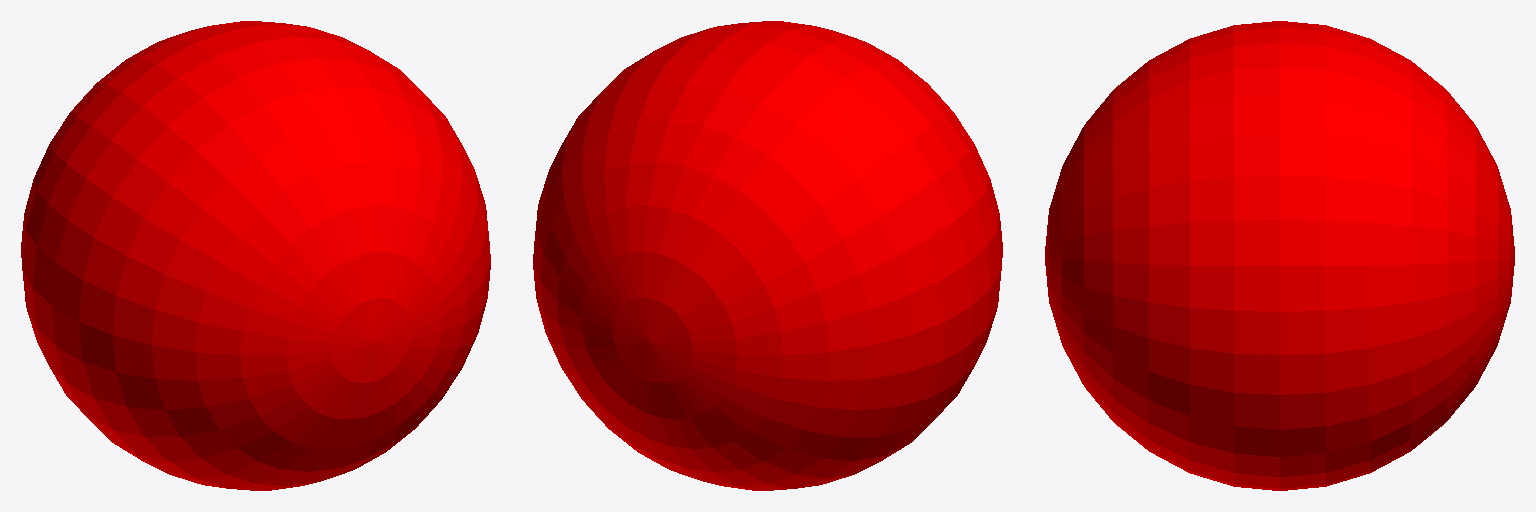
robot.urdf — panda:
<?xml version="1.0" ?>
<robot name="panda" xmlns:xacro="http://www.ros.org/wiki/xacro">

  <mujoco>
    <compiler meshdir="../meshes" discardvisual="false" />
  </mujoco>
  
  <link name="panda_link0">
    <visual>
      <geometry>
        <mesh filename="[local-path]/DexMimic/dex-mimic/assets/franka_pinocchio/meshes/visual/link0.dae"/>
      </geometry>
    </visual>
    <collision>
      <geometry>
        <mesh filename="[local-path]/DexMimic/dex-mimic/assets/franka_pinocchio/meshes/collision/link0.obj"/>
      </geometry>
    </collision>
  </link>
  <link name="panda_link1">
    <visual>
      <geometry>
        <mesh filename="[local-path]/DexMimic/dex-mimic/assets/franka_pinocchio/meshes/visual/link1.dae"/>
      </geometry>
    </visual>
    <collision>
      <geometry>
        <mesh filename="[local-path]/DexMimic/dex-mimic/assets/franka_pinocchio/meshes/collision/link1.obj"/>
      </geometry>
    </collision>
  </link>
  <joint name="panda_joint1" type="revolute">
    <safety_controller k_position="100.0" k_velocity="40.0" soft_lower_limit="-2.8973" soft_upper_limit="2.8973"/>
    <origin rpy="0 0 0" xyz="0 0 0.333"/>
    <parent link="panda_link0"/>
    <child link="panda_link1"/>
    <axis xyz="0 0 1"/>
    <dynamics damping="10.0"/>
    <limit effort="87" lower="-2.8973" upper="2.8973" velocity="2.1750"/>
  </joint>
  <link name="panda_link2">
    <visual>
      <geometry>
        <mesh filename="[local-path]/DexMimic/dex-mimic/assets/franka_pinocchio/meshes/visual/link2.dae"/>
      </geometry>
    </visual>
    <collision>
      <geometry>
        <mesh filename="[local-path]/DexMimic/dex-mimic/assets/franka_pinocchio/meshes/collision/link2.obj"/>
      </geometry>
    </collision>
  </link>
  <joint name="panda_joint2" type="revolute">
    <safety_controller k_position="100.0" k_velocity="40.0" soft_lower_limit="-1.7628" soft_upper_limit="1.7628"/>
    <origin rpy="-1.57079632679 0 0" xyz="0 0 0"/>
    <parent link="panda_link1"/>
    <child link="panda_link2"/>
    <axis xyz="0 0 1"/>
    <dynamics damping="10.0"/>
    <limit effort="87" lower="-1.7628" upper="1.7628" velocity="2.1750"/>
  </joint>
  <link name="panda_link3">
    <visual>
      <geometry>
        <mesh filename="[local-path]/DexMimic/dex-mimic/assets/franka_pinocchio/meshes/visual/link3.dae"/>
      </geometry>
    </visual>
    <collision>
      <geometry>
        <mesh filename="[local-path]/DexMimic/dex-mimic/assets/franka_pinocchio/meshes/collision/link3.obj"/>
      </geometry>
    </collision>
  </link>
  <joint name="panda_joint3" type="revolute">
    <safety_controller k_position="100.0" k_velocity="40.0" soft_lower_limit="-2.8973" soft_upper_limit="2.8973"/>
    <origin rpy="1.57079632679 0 0" xyz="0 -0.316 0"/>
    <parent link="panda_link2"/>
    <child link="panda_link3"/>
    <axis xyz="0 0 1"/>
    <dynamics damping="10.0"/>
    <limit effort="87" lower="-2.8973" upper="2.8973" velocity="2.1750"/>
  </joint>
  <link name="panda_link4">
    <visual>
      <geometry>
        <mesh filename="[local-path]/DexMimic/dex-mimic/assets/franka_pinocchio/meshes/visual/link4.dae"/>
      </geometry>
    </visual>
    <collision>
      <geometry>
        <mesh filename="[local-path]/DexMimic/dex-mimic/assets/franka_pinocchio/meshes/collision/link4.obj"/>
      </geometry>
    </collision>
  </link>
  <joint name="panda_joint4" type="revolute">
    <safety_controller k_position="100.0" k_velocity="40.0" soft_lower_limit="-3.0718" soft_upper_limit="-0.0698"/>
    <origin rpy="1.57079632679 0 0" xyz="0.0825 0 0"/>
    <parent link="panda_link3"/>
    <child link="panda_link4"/>
    <axis xyz="0 0 1"/>    
    <dynamics damping="10.0"/>
    <limit effort="87" lower="-3.0718" upper="-0.0698" velocity="2.1750"/>
    <!-- something is weird with this joint limit config
    <dynamics damping="10.0"/>
    <limit effort="87" lower="-3.0" upper="0.087" velocity="2.1750"/>  -->
  </joint>
  <link name="panda_link5">
    <visual>
      <geometry>
        <mesh filename="[local-path]/DexMimic/dex-mimic/assets/franka_pinocchio/meshes/visual/link5.dae"/>
      </geometry>
    </visual>
    <collision>
      <geometry>
        <mesh filename="[local-path]/DexMimic/dex-mimic/assets/franka_pinocchio/meshes/collision/link5.obj"/>
      </geometry>
    </collision>
  </link>
  <joint name="panda_joint5" type="revolute">
    <safety_controller k_position="100.0" k_velocity="40.0" soft_lower_limit="-2.8973" soft_upper_limit="2.8973"/>
    <origin rpy="-1.57079632679 0 0" xyz="-0.0825 0.384 0"/>
    <parent link="panda_link4"/>
    <child link="panda_link5"/>
    <axis xyz="0 0 1"/>
    <dynamics damping="10.0"/>
    <limit effort="87" lower="-2.8973" upper="2.8973" velocity="2.1750"/>
  </joint>
  <link name="panda_link6">
    <visual>
      <geometry>
        <mesh filename="[local-path]/DexMimic/dex-mimic/assets/franka_pinocchio/meshes/visual/link6.dae"/>
      </geometry>
    </visual>
    <collision>
      <geometry>
        <mesh filename="[local-path]/DexMimic/dex-mimic/assets/franka_pinocchio/meshes/collision/link6.obj"/>
      </geometry>
    </collision>
  </link>
  <joint name="panda_joint6" type="revolute">
    <safety_controller k_position="100.0" k_velocity="40.0" soft_lower_limit="-0.0175" soft_upper_limit="3.7525"/>
    <origin rpy="1.57079632679 0 0" xyz="0 0 0"/>
    <parent link="panda_link5"/>
    <child link="panda_link6"/>
    <axis xyz="0 0 1"/>
    <dynamics damping="10.0"/>
    <limit effort="87" lower="-0.0175" upper="3.7525" velocity="2.1750"/>
    <!-- <dynamics damping="10.0"/>
    <limit effort="12" lower="-0.0873" upper="3.0" velocity="2.6100"/> -->
  </joint>
  <link name="panda_link7">
    <visual>
      <geometry>
        <mesh filename="[local-path]/DexMimic/dex-mimic/assets/franka_pinocchio/meshes/visual/link7.dae"/>
      </geometry>
    </visual>
    <collision>
      <geometry>
        <mesh filename="[local-path]/DexMimic/dex-mimic/assets/franka_pinocchio/meshes/collision/link7.obj"/>
      </geometry>
    </collision>
  </link>
  <joint name="panda_joint7" type="revolute">
    <safety_controller k_position="100.0" k_velocity="40.0" soft_lower_limit="-2.8973" soft_upper_limit="2.8973"/>
    <origin rpy="1.57079632679 0 0" xyz="0.088 0 0"/>
    <parent link="panda_link6"/>
    <child link="panda_link7"/>
    <axis xyz="0 0 1"/>
    <dynamics damping="10.0"/>
    <limit effort="87" lower="-2.8973" upper="2.8973" velocity="2.1750"/>
  </joint>
  
  <link name="wrist_connnect">
    <visual>
      <geometry>
        <mesh filename="[local-path]/DexMimic/dex-mimic/assets/franka_pinocchio/meshes/visual/wrist_connect5.STL"/>
      </geometry>
    </visual>
    <collision>
      <geometry>
        <mesh filename="[local-path]/DexMimic/dex-mimic/assets/franka_pinocchio/meshes/visual/wrist_connect5.STL"/>
      </geometry>
    </collision>
  </link>

  <link name="panda_link8">
    <inertial>
      <origin rpy="0 0 0" xyz="0 0 0"/>
      <mass value="0.0"/>
      <inertia ixx="0.001" ixy="0.0" ixz="0.0" iyy="0.001" iyz="0.0" izz="0.001"/>
    </inertial>
  </link>
  <joint name="panda_joint8" type="fixed">
    <origin rpy="0 0 0" xyz="0 0 0.107"/>
    <parent link="panda_link7"/>
    <child link="panda_link8"/>
    <axis xyz="0 0 0"/>
  </joint>

  <joint name="arm_wrist_joint" type="fixed">
    <!--
    <parent link="panda_link8"/>
    -->
    <parent link="panda_link7"/>
    <child link="wrist_connnect"/>
    <!-- <origin rpy="-1.5707963 0 -0.785398163397" xyz="0 0 0.107"/> -->
    <origin rpy="-1.5707963 0 -1.5707963267948966" xyz="0 0 0.116"/>
  </joint>

    <joint name="wrist_hand_joint" type="fixed">
    <!--
    <parent link="panda_link8"/>
    -->
    <parent link="wrist_connnect"/>
    <child link="hand_base_link"/>
    <!-- <origin rpy="-1.5707963 0 1.5707963267948966" xyz="0 -0.02696 0.0447"/> -->
    <origin rpy="-1.5707963 0 1.5707963267948966" xyz="0 -0.01 0.03"/>
    <!--
    <origin rpy="0 0 -0.785398163397" xyz="0 0 0"/>
    -->
  </joint>

  <link name="hand_base_link">

  <!-- <visual>
    <geometry>
      <box size="0.05 0.2 0.05"/> 
    </geometry>
    <origin xyz="0 -0.2 0" rpy="0 0 0"/> 
    <material name="gray">
      <color rgba="0.6 0.6 0.6 1"/>
    </material>
  </visual> -->

  <visual>
    <geometry>
      <sphere radius="0.01"/> <!-- 球体半径为0.025 -->
    </geometry>
    <origin xyz="0 0 0" rpy="0 0 0"/> <!-- 球体放在长方体末端（沿x轴） -->
    <material name="red">
      <color rgba="1 0 0 1"/>
    </material>
  </visual>
</link>

</robot>

--- Facts derived from the render (not from the file) ---
3 views of the same robot in one strip: view 1: azimuth 30°, elevation 25°; view 2: azimuth 150°, elevation 25°; view 3: azimuth 270°, elevation 25° (orthographic).
Model panda with 11 links and 10 joints (7 revolute, 3 fixed), rooted at panda_link0, posed joints at zero except 1 at the middle of their limits (panda_joint4 = -1.57).
Visible links, largest first — view 1: hand_base_link; view 2: hand_base_link; view 3: hand_base_link.
Link boxes in pixels (x1,y1,x2,y2): hand_base_link: (21,21,490,490); hand_base_link: (533,21,1002,490); hand_base_link: (1045,21,1514,490).
Size in the robot's own frame: 0.02 by 0.02 by 0.02 metres.
Geometry: only primitive shapes (box / cylinder / sphere) drawn; not drawn: 9 mesh visuals (reference in a form the renderer does not follow).